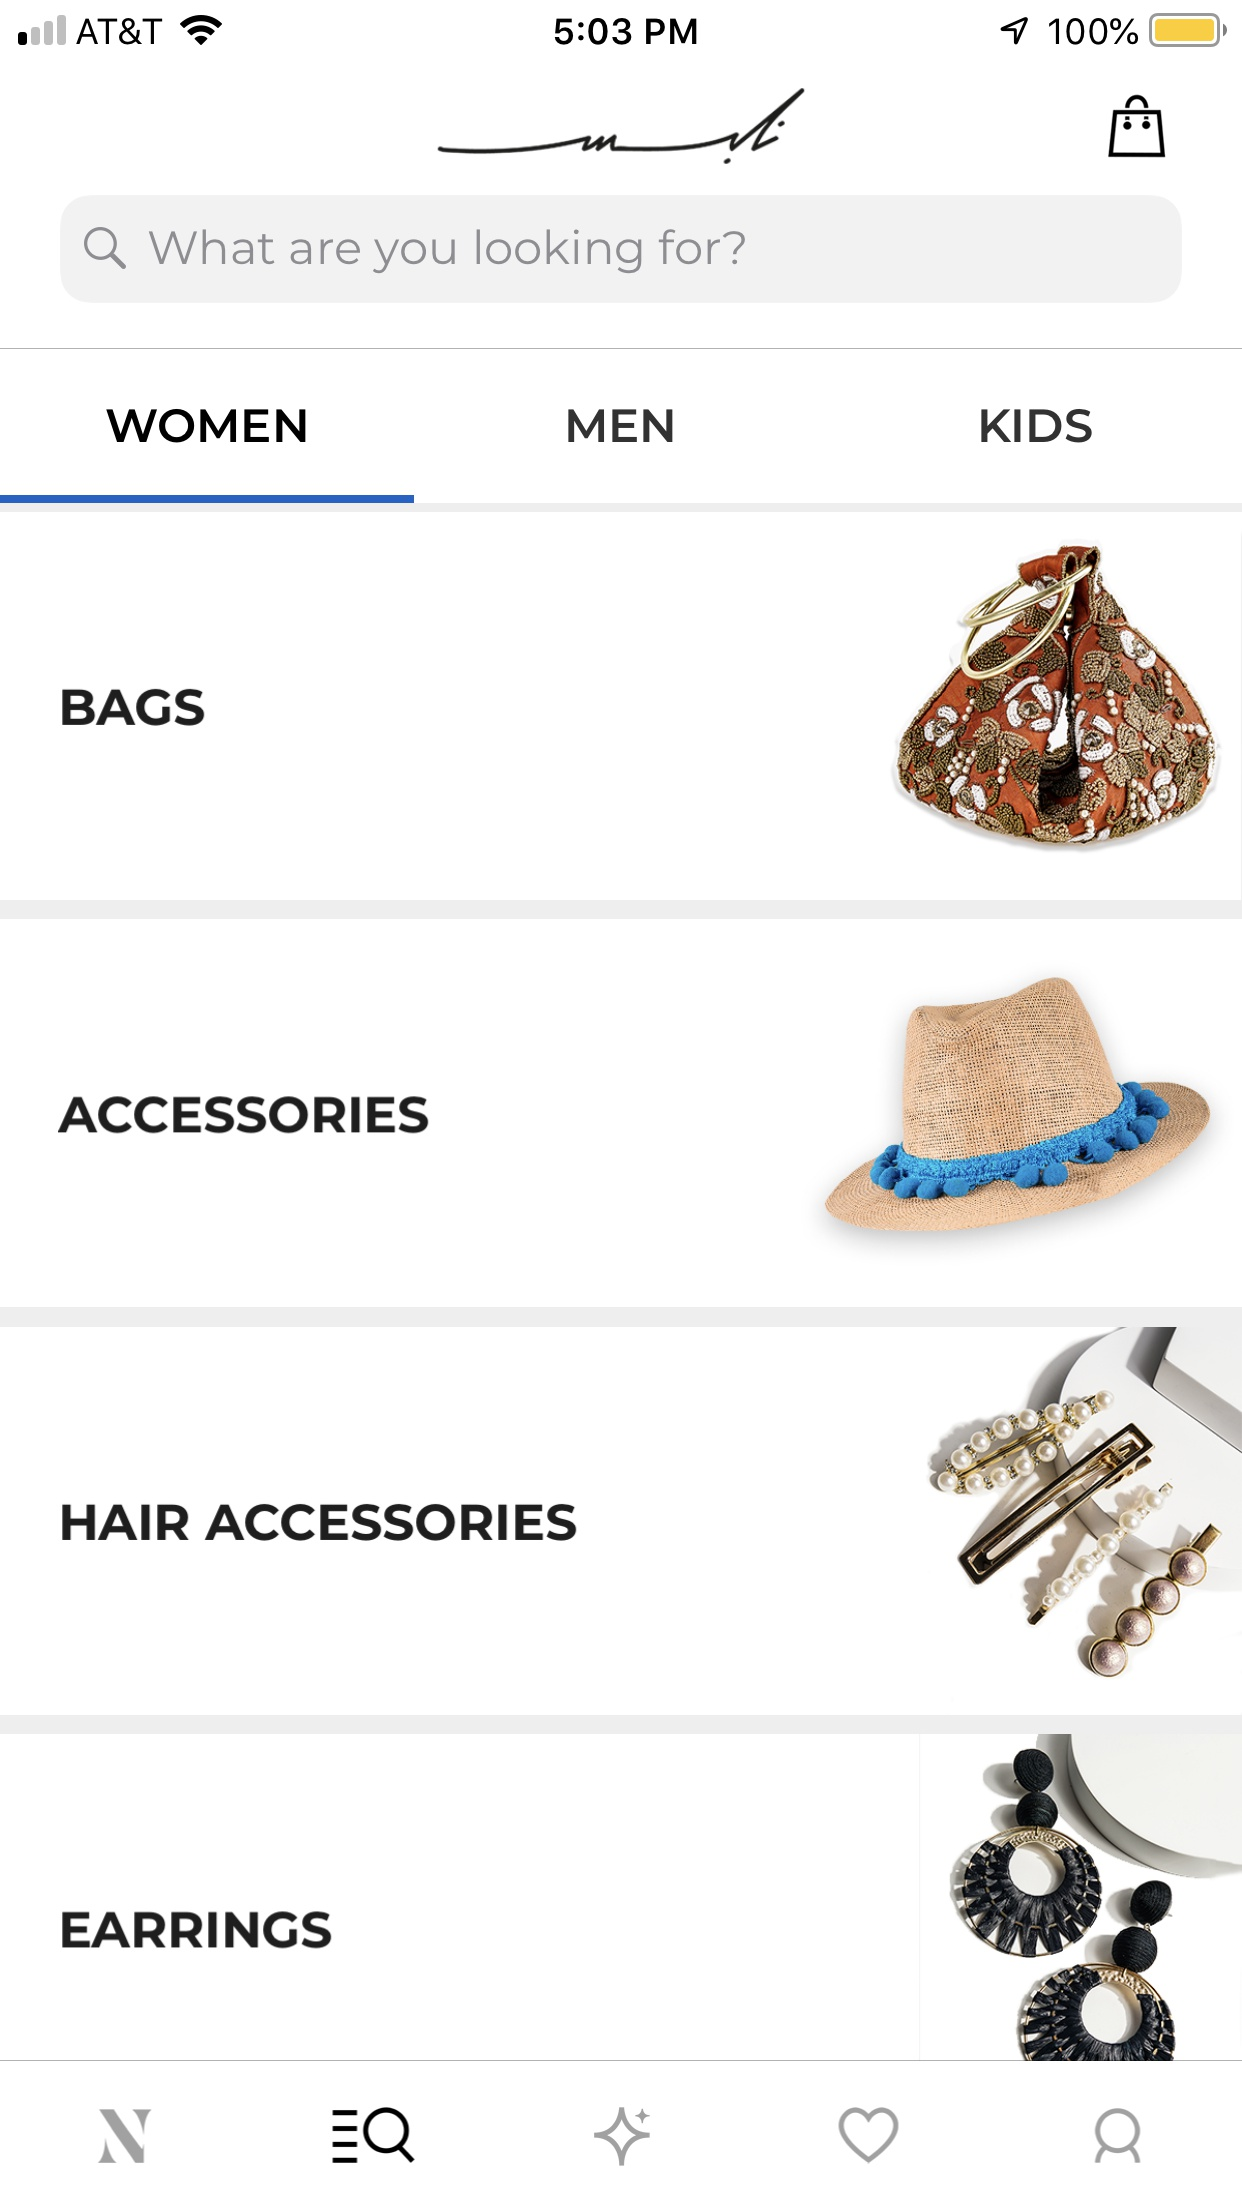EditText: (61, 196, 1183, 305)
Icon: (332, 2106, 416, 2166), (1107, 96, 1166, 159), (839, 2105, 899, 2164), (593, 2106, 651, 2167), (99, 2108, 153, 2164), (1093, 2106, 1142, 2164), (83, 227, 127, 270)
Image: (930, 1327, 1242, 1679), (825, 977, 1212, 1233), (895, 544, 1216, 848), (949, 1733, 1242, 2061), (438, 89, 805, 165)
Text: (150, 227, 748, 274), (62, 1503, 576, 1542), (59, 1095, 431, 1134), (62, 1911, 334, 1950), (108, 409, 308, 444), (62, 688, 206, 726), (981, 408, 1093, 444), (569, 409, 673, 444)
UpperTaskBar: (2, 2, 1242, 49)
